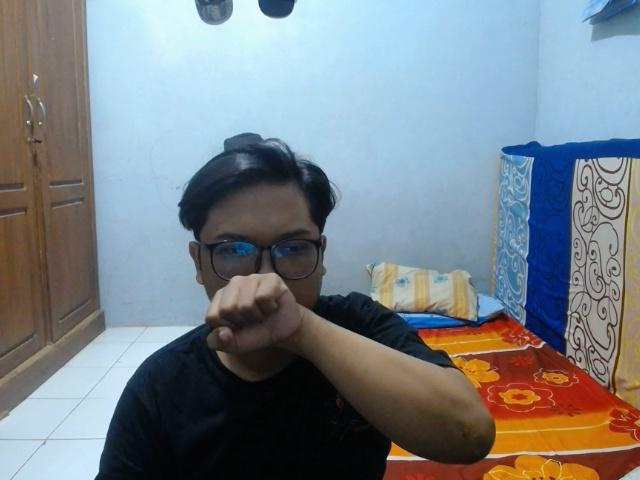Grab: (203, 269, 320, 363)
